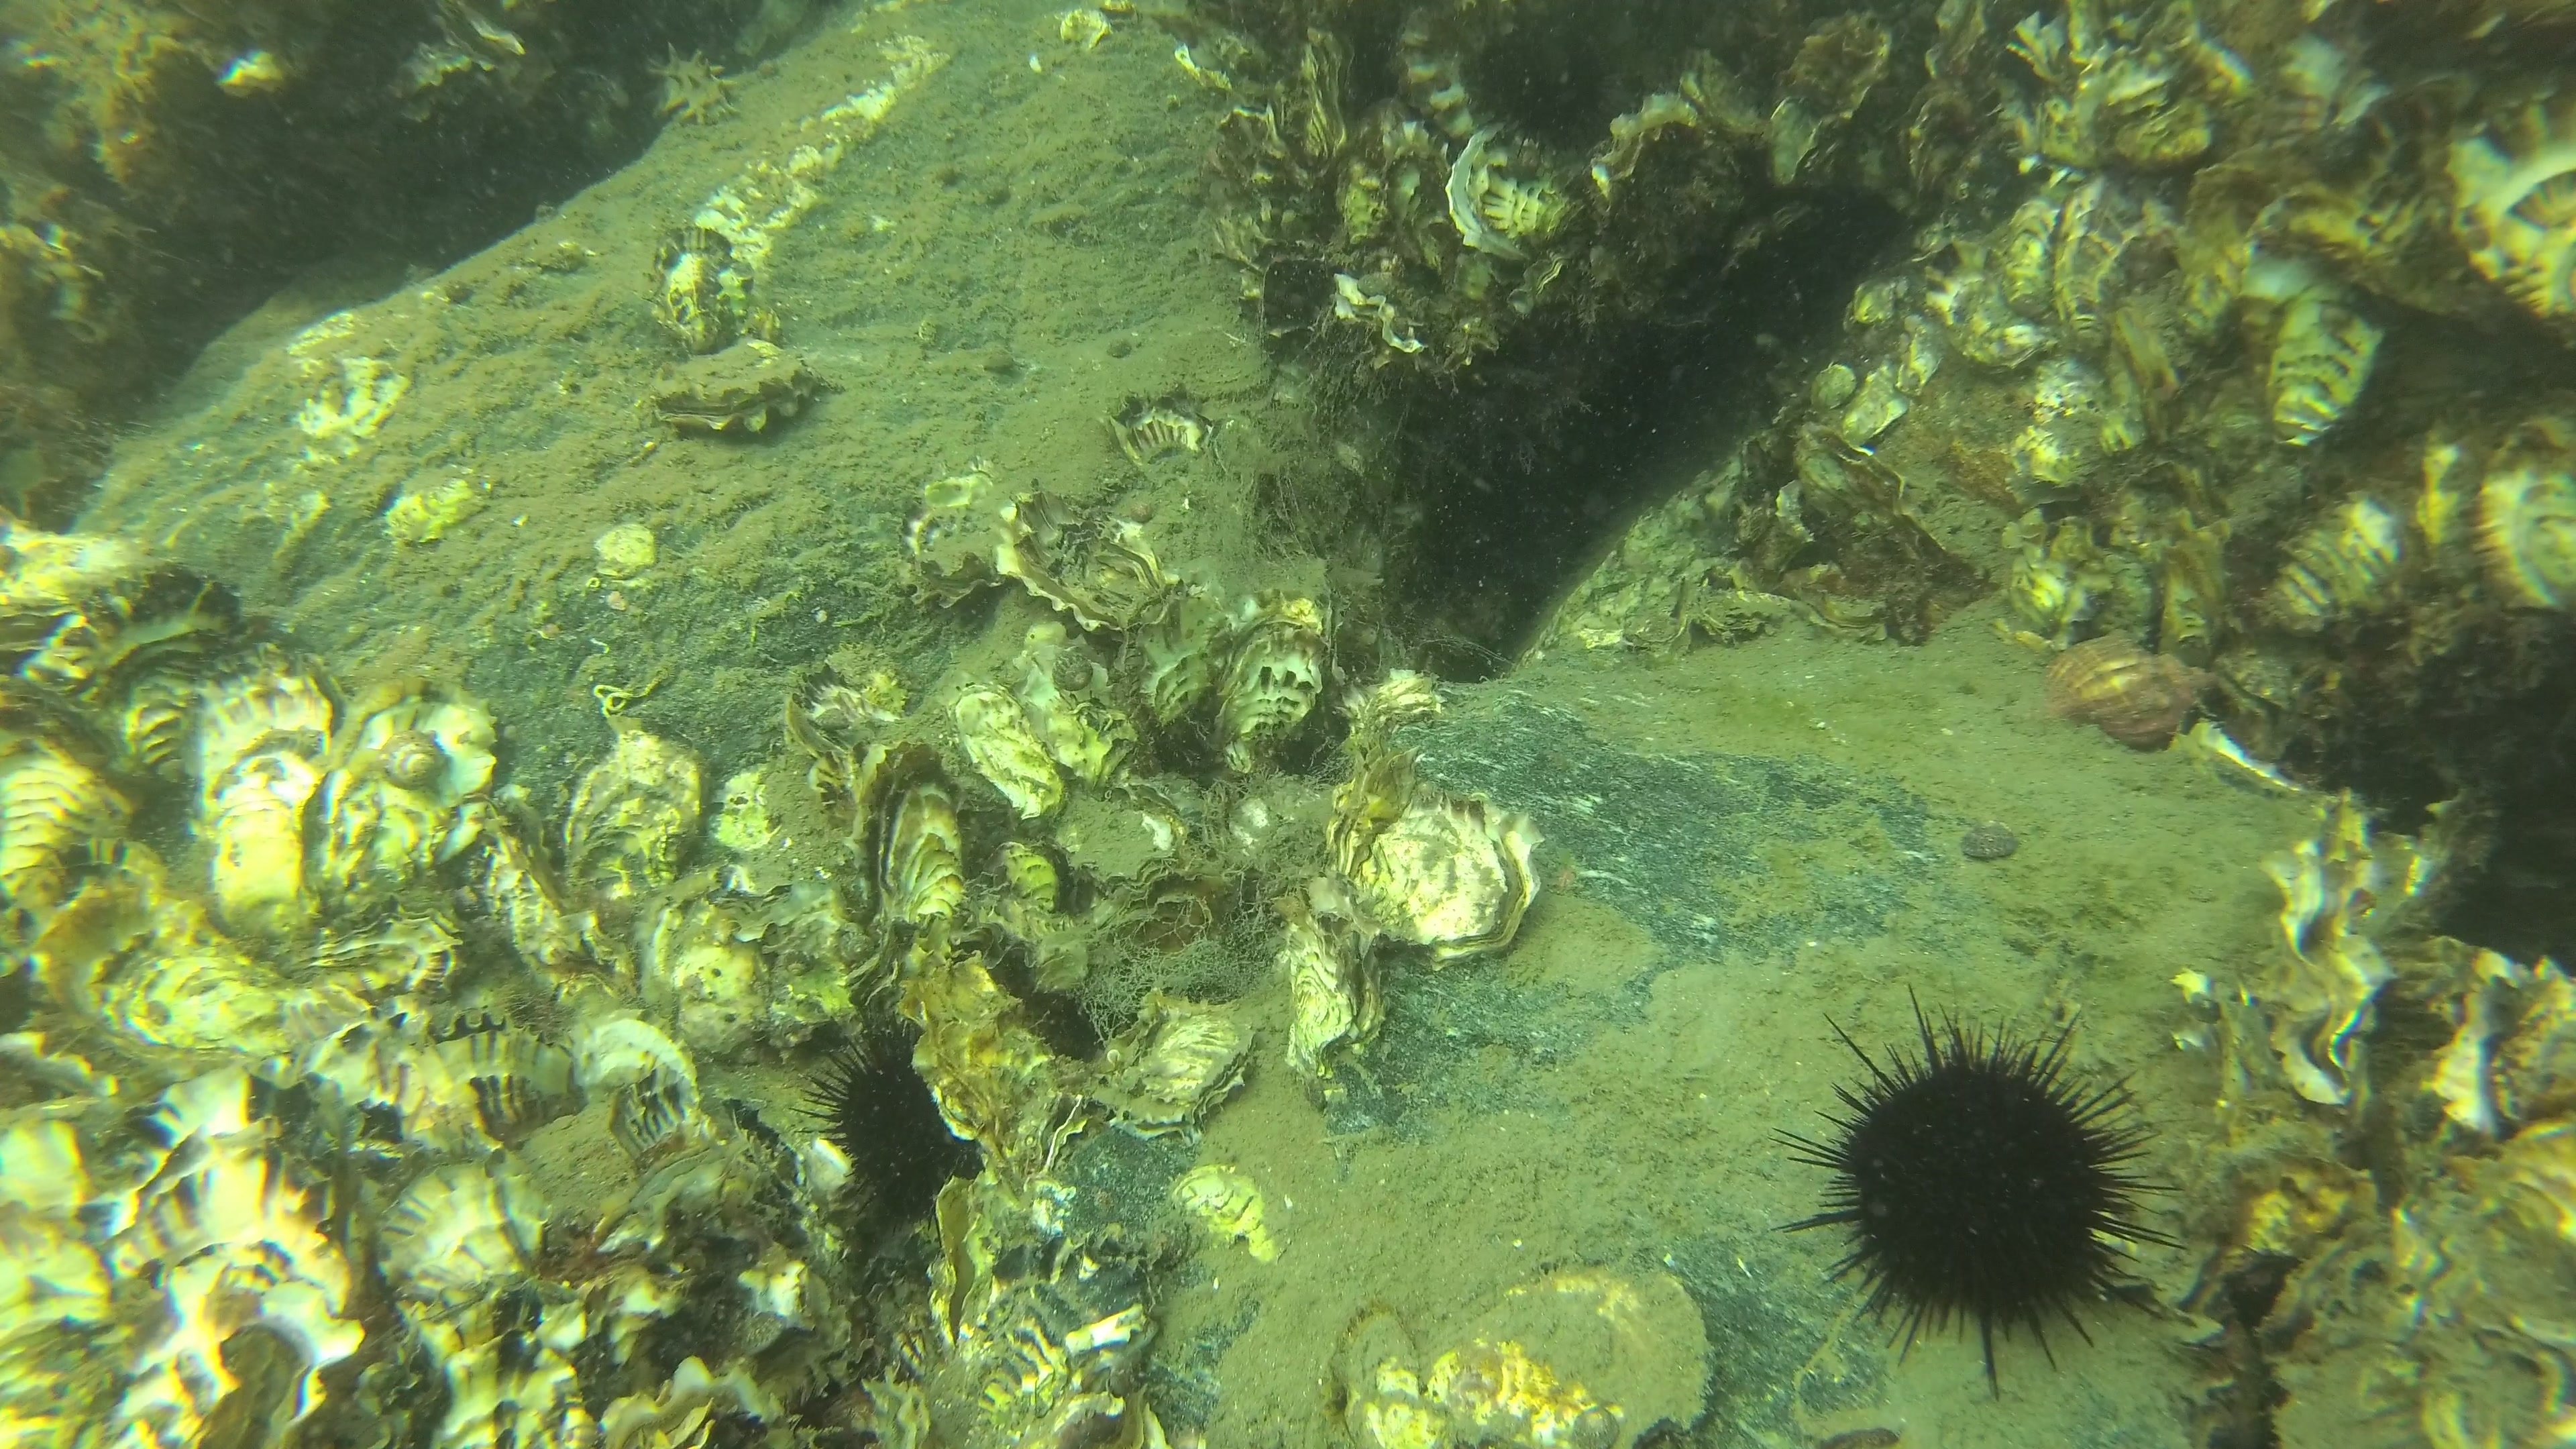echinus: (1780, 984, 2185, 1392), (807, 1017, 978, 1210), (1467, 27, 1608, 156)
holothurian: (640, 48, 738, 127)
